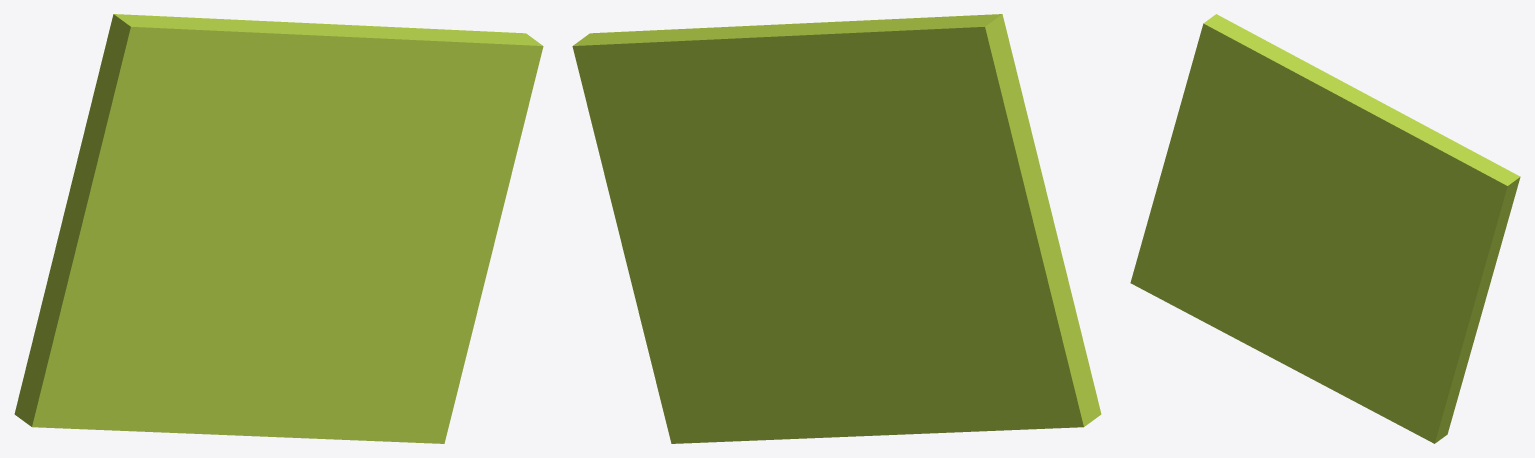
The picture shows the model from 3 angles, left to right: view 1: azimuth 30°, elevation 25°; view 2: azimuth 150°, elevation 25°; view 3: azimuth 330°, elevation 25°; orthographic projection. The views are drawn at different scales.
Visible parts, largest first — view 1: osm-way27917482-F3; view 2: osm-way27917482-F3; view 3: osm-way27917482-F3.
Part boxes in pixels (left/top/right/bottom): osm-way27917482-F3: left=14, top=14, right=543, bottom=443; osm-way27917482-F3: left=572, top=14, right=1101, bottom=443; osm-way27917482-F3: left=1130, top=14, right=1520, bottom=443.
Bounding box in the file's own units: 2.53 × 2.33 × 0.15.
